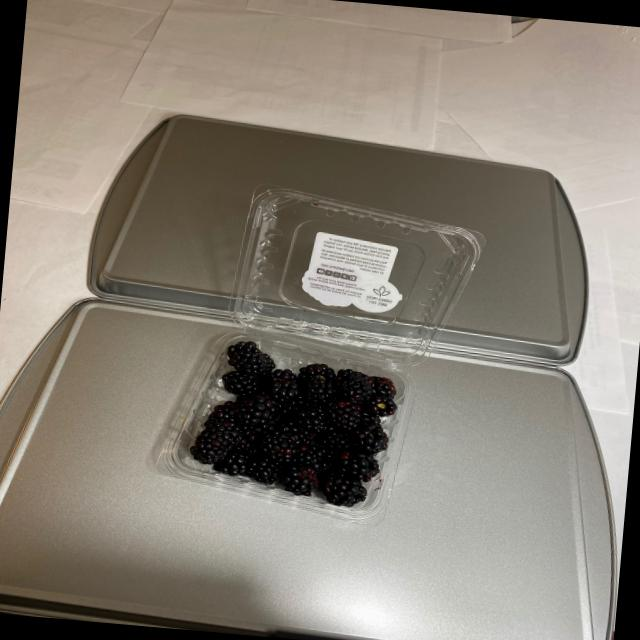blackberries: (212, 336, 398, 512)
